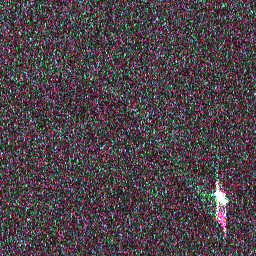ship: (212, 187, 231, 208)
